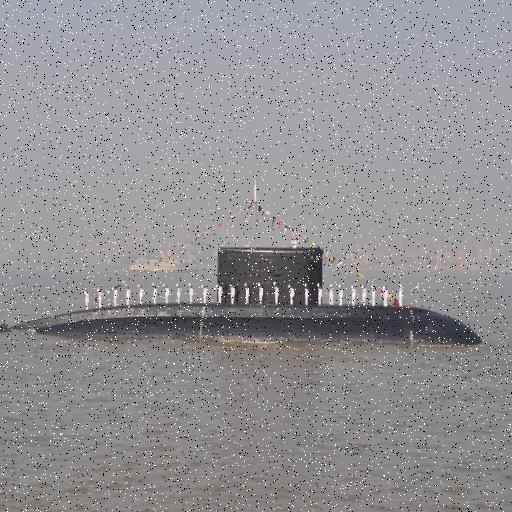submarine: (3, 246, 492, 336)
